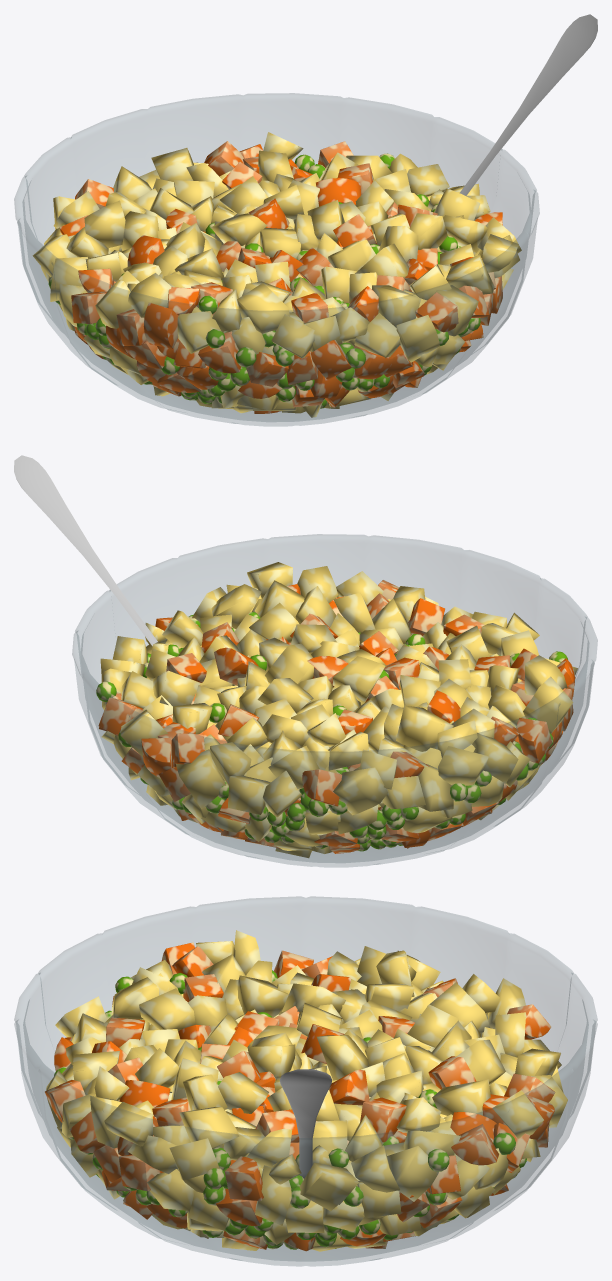
File: potato_salad.obj
3 renders of one model, top to bottom at view 1: azimuth 30°, elevation 25°; view 2: azimuth 150°, elevation 25°; view 3: azimuth 270°, elevation 25°, orthographic. The views are drawn at different scales.
Visible parts, largest first — view 1: Potatoe_Part_1.202_Icosphere.010, Salad_Bowl_Sphere.031, Salad_Spoon_Plane.097; view 2: Potatoe_Part_1.202_Icosphere.010, Salad_Bowl_Sphere.031, Salad_Spoon_Plane.097; view 3: Potatoe_Part_1.202_Icosphere.010, Salad_Bowl_Sphere.031, Salad_Spoon_Plane.097.
Part boxes in pixels (x1=…): Potatoe_Part_1.202_Icosphere.010: x1=32, y1=132, x2=521, y2=417; Salad_Bowl_Sphere.031: x1=14, y1=93, x2=539, y2=426; Salad_Spoon_Plane.097: x1=459, y1=14, x2=597, y2=195; Potatoe_Part_1.202_Icosphere.010: x1=96, y1=562, x2=577, y2=858; Salad_Bowl_Sphere.031: x1=72, y1=534, x2=597, y2=867; Salad_Spoon_Plane.097: x1=14, y1=455, x2=157, y2=646; Potatoe_Part_1.202_Icosphere.010: x1=45, y1=930, x2=567, y2=1251; Salad_Bowl_Sphere.031: x1=14, y1=896, x2=597, y2=1266; Salad_Spoon_Plane.097: x1=279, y1=1069, x2=332, y2=1178.
Size of the model in its own units: 0.2429 by 0.1184 by 0.2031.
Materials: 3 (1 with a texture image).
